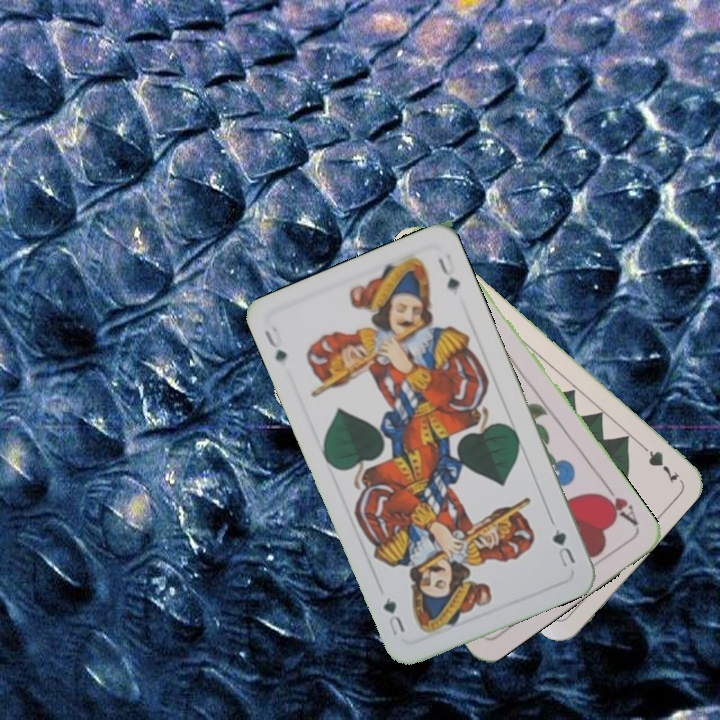G7: (633, 437, 683, 487)
GU: (548, 524, 579, 572), (260, 321, 290, 366)
HA: (593, 479, 641, 529)
